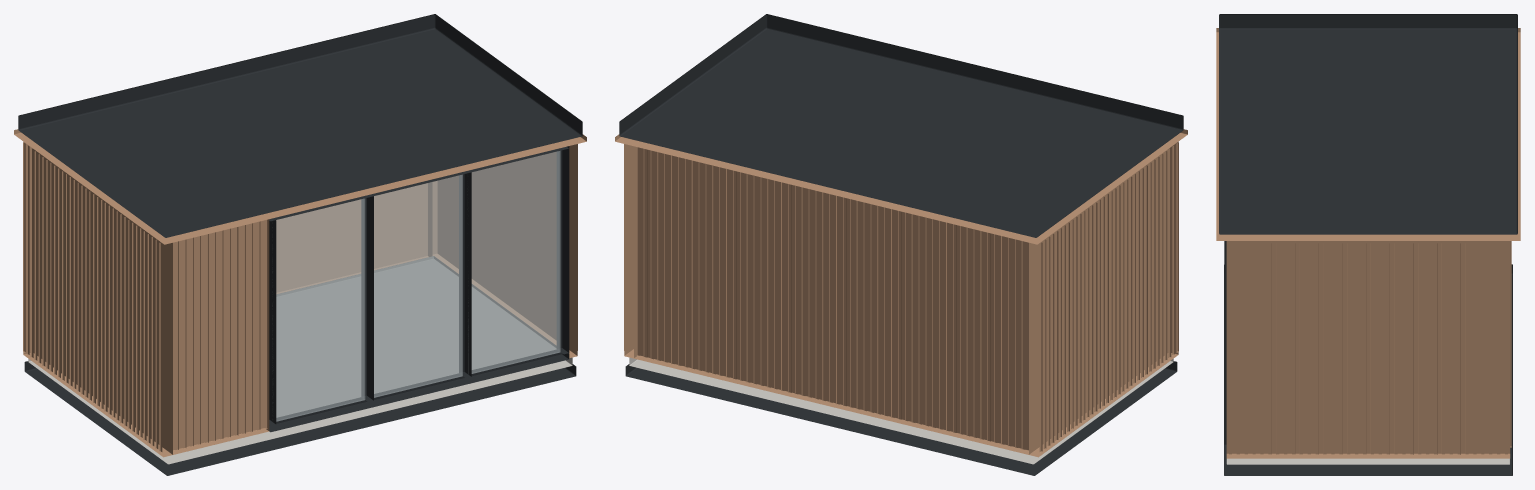
The model's file is mobup-studio-p4-m1-m8.glb.
The picture shows the model from 3 angles, left to right: view 1: azimuth 30°, elevation 25°; view 2: azimuth 150°, elevation 25°; view 3: azimuth 270°, elevation 25°; orthographic projection.
Visible parts, largest first — view 1: Mobup_graphite, Mobup_cedar, Mobup_glass, Mobup_floor, Mobup_mineral; view 2: Mobup_cedar, Mobup_graphite, Mobup_mineral; view 3: Mobup_graphite, Mobup_cedar, Mobup_mineral.
Part boxes in pixels (x1=…): Mobup_graphite: x1=18, y1=14, x2=582, y2=475; Mobup_cedar: x1=14, y1=129, x2=586, y2=457; Mobup_glass: x1=272, y1=151, x2=560, y2=421; Mobup_floor: x1=276, y1=256, x2=556, y2=417; Mobup_mineral: x1=28, y1=357, x2=572, y2=464; Mobup_cedar: x1=615, y1=129, x2=1187, y2=457; Mobup_graphite: x1=619, y1=14, x2=1183, y2=475; Mobup_mineral: x1=629, y1=357, x2=1173, y2=464; Mobup_graphite: x1=1219, y1=14, x2=1517, y2=475; Mobup_cedar: x1=1216, y1=28, x2=1520, y2=458; Mobup_mineral: x1=1226, y1=458, x2=1510, y2=464.
Size of the model in its own units: 5.22 by 3.02 by 3.22.
